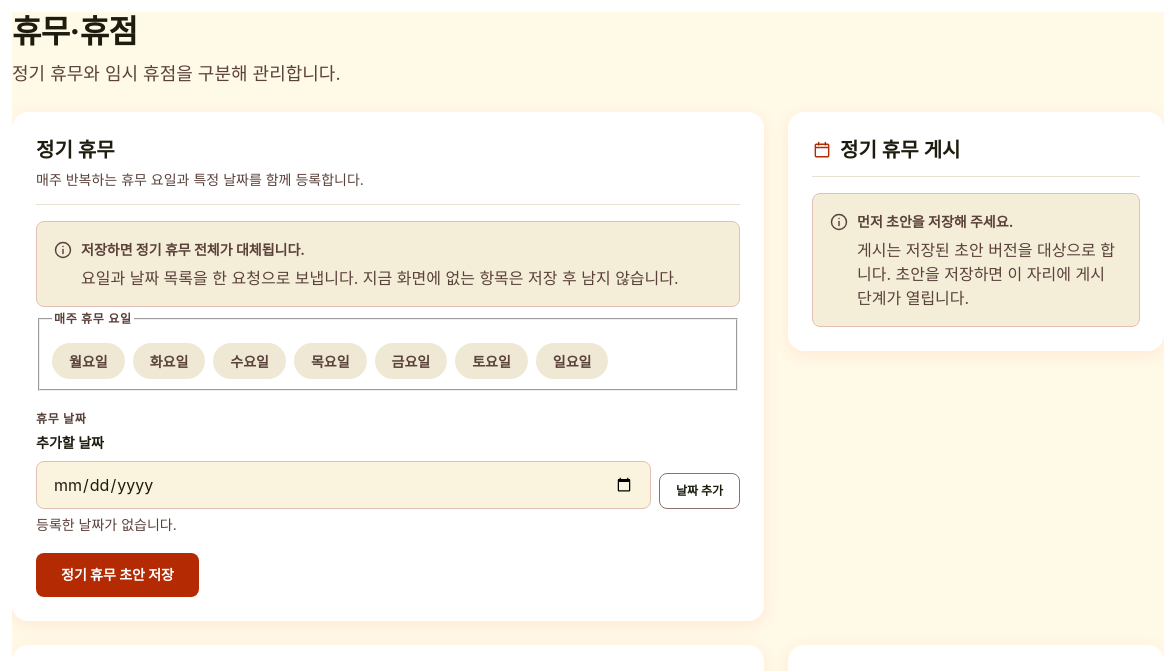
휴무·휴점 화면 › 같은 날짜를 두 번 추가하지 않는다
Type "2026-12-25" into the date field labelled "추가할 날짜" at coordinates (344, 485), box [36,461,651,509]
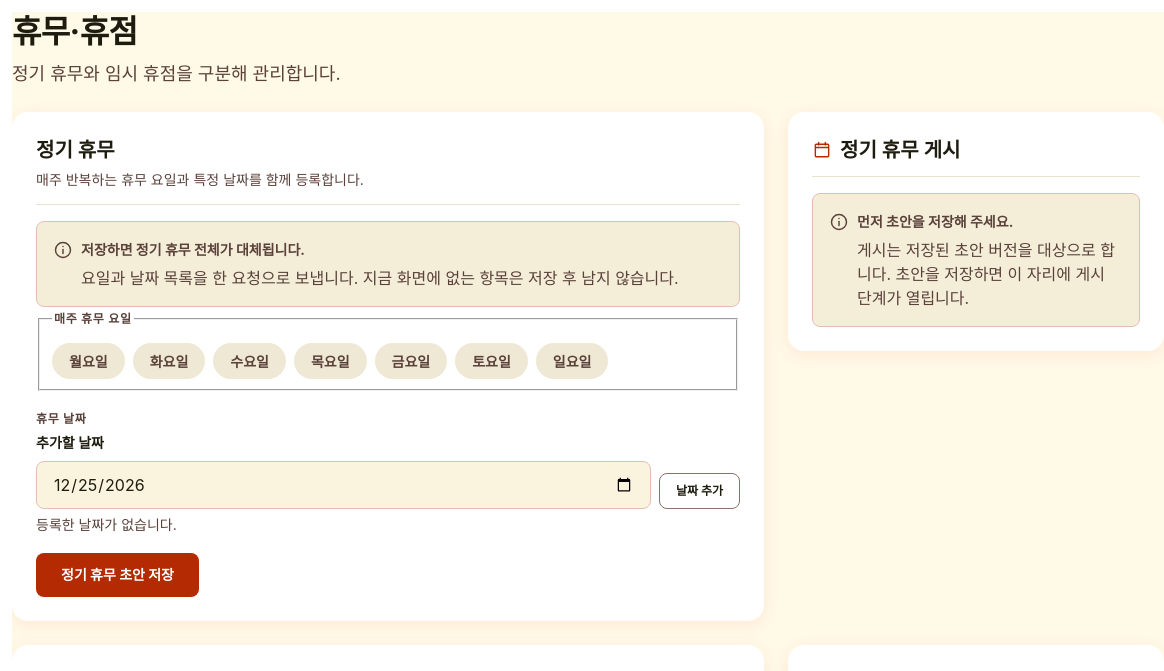
Click the button "날짜 추가" at coordinates (700, 491), box [659,473,740,509]
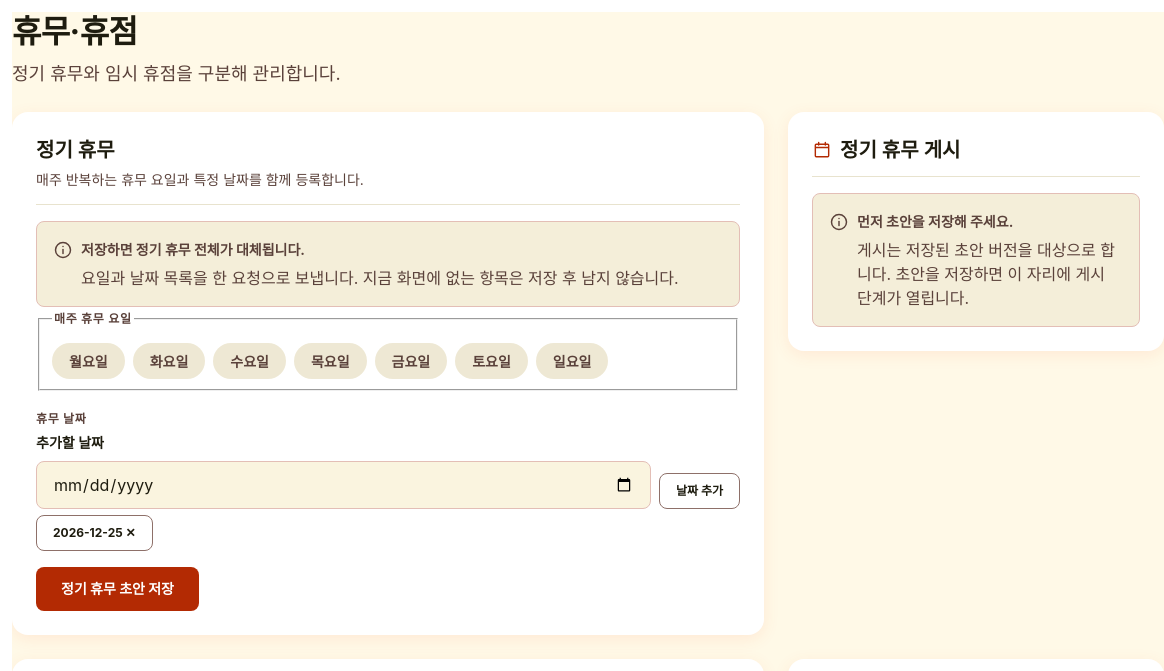
Type "2026-12-25" into the date field labelled "추가할 날짜" at coordinates (344, 485), box [36,461,651,509]
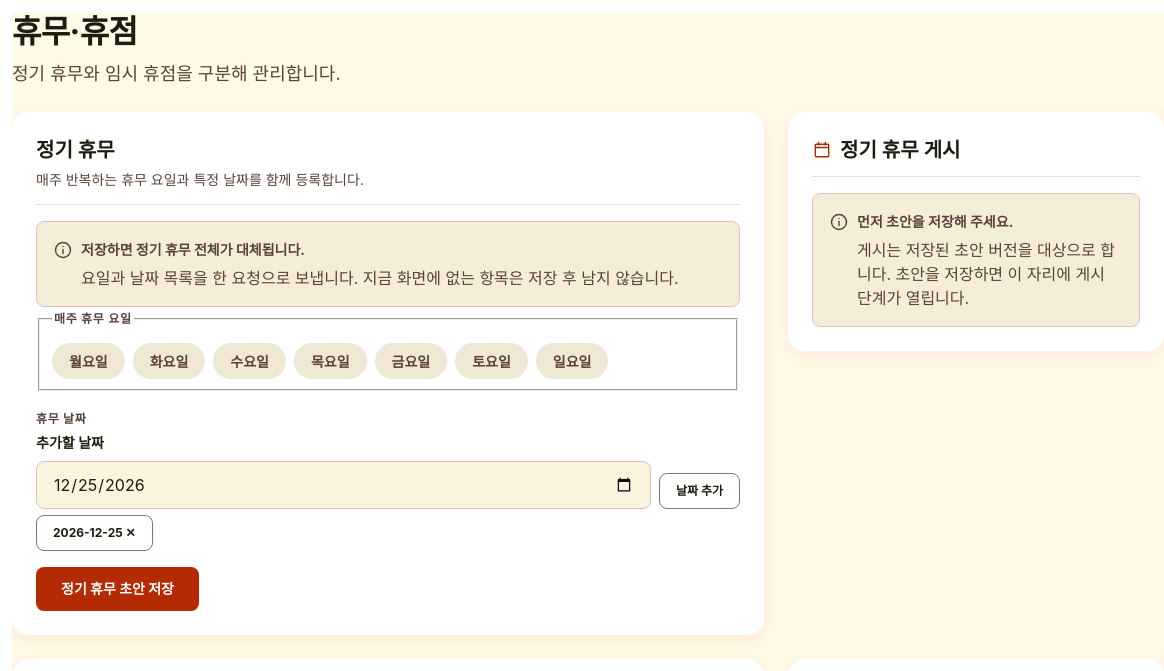
Click the button "날짜 추가" at coordinates (700, 491), box [659,473,740,509]
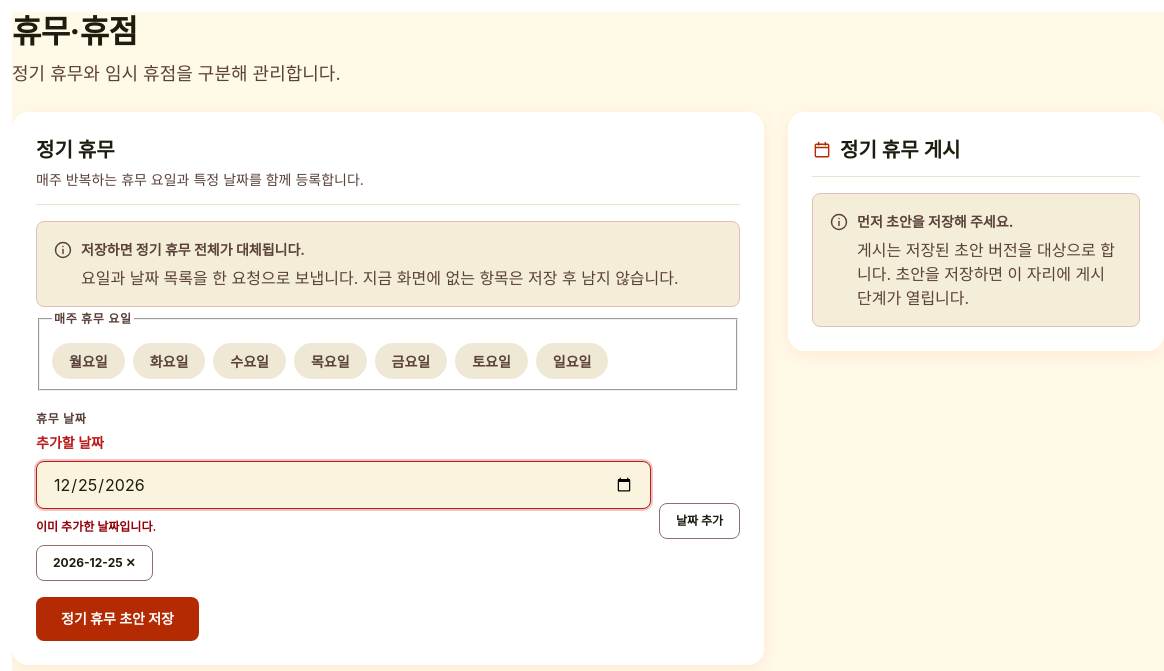
Expected: the text "이미 추가한 날짜입니다." is shown, [36,519,156,534]
